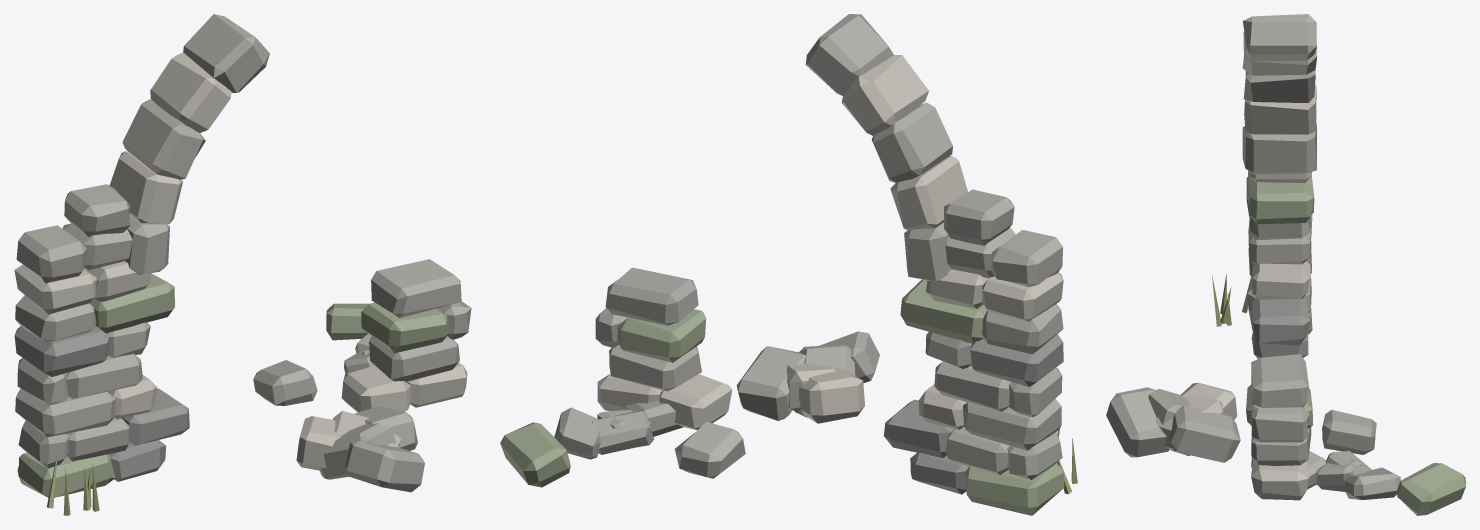
File: Ruin_Arch_Broken.fbx
The picture shows the model from 3 angles, left to right: view 1: azimuth 30°, elevation 25°; view 2: azimuth 150°, elevation 25°; view 3: azimuth 270°, elevation 25°; orthographic projection. The views are drawn at different scales.
Parts seen in each view (by area): view 1: Ruin_Arch_Broken; view 2: Ruin_Arch_Broken; view 3: Ruin_Arch_Broken.
Part boxes in pixels (bbox=[...]): Ruin_Arch_Broken: bbox=[14, 14, 471, 515]; Ruin_Arch_Broken: bbox=[500, 14, 1077, 515]; Ruin_Arch_Broken: bbox=[1106, 14, 1465, 515].
Size of the model in its own units: 4.9 by 4.46 by 3.66.
